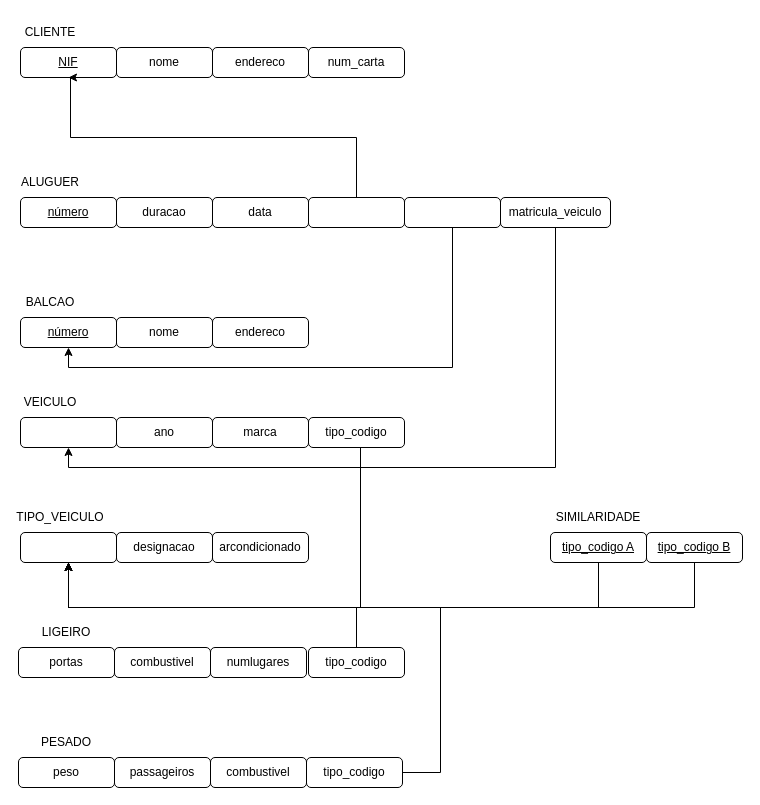
Some shapes in this 760 by 805 pixel diagram are drawn without their labels. The centre of each missing label's shape, as x and y in pixels:
codigo: (68,547)
matrícula: (68,432)
n_balcao: (452,212)
NIF_cliente: (356,212)
